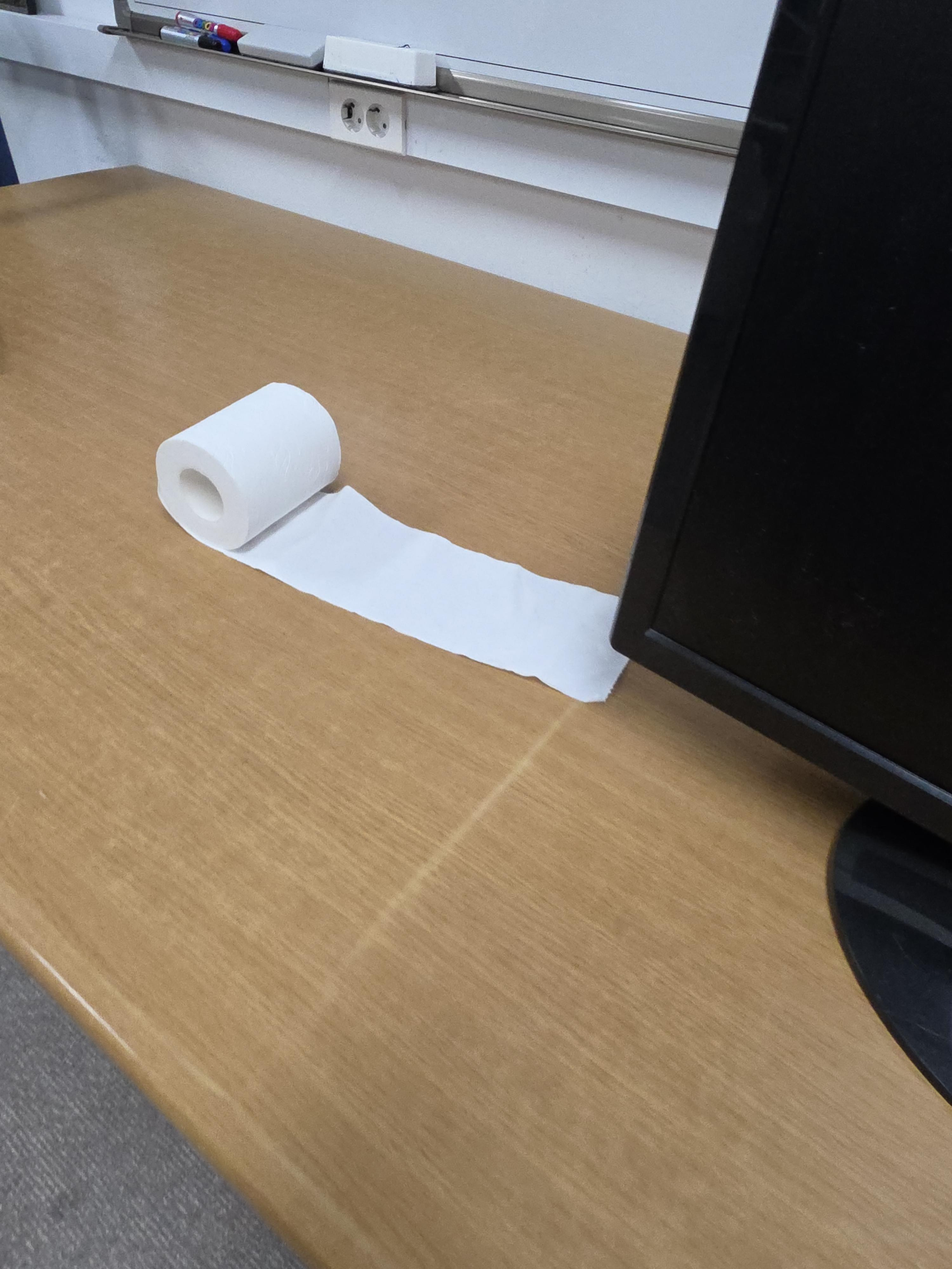tissue: (155, 382, 629, 703)
